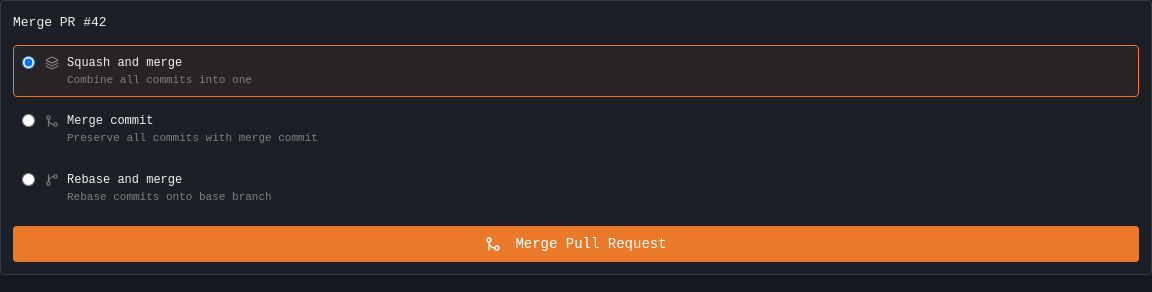
Test: MergeStrategyPicker › shows confirm/cancel buttons after clicking Merge Pull Request
Click the button "Merge Pull Request" at (576, 244), box [13, 226, 1139, 262]
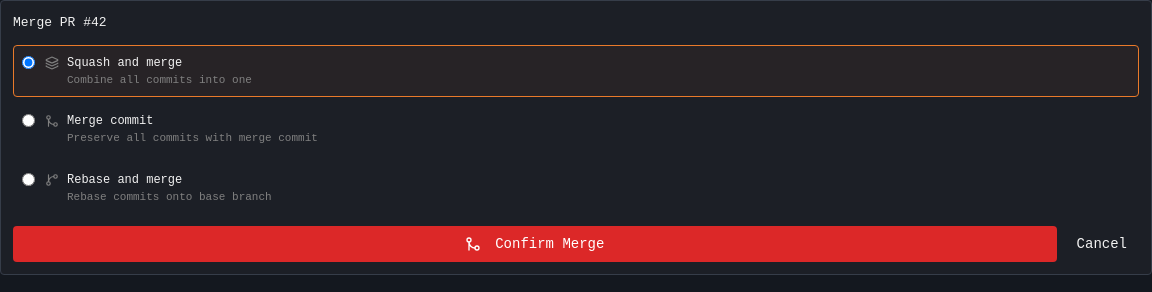
Check: the button "Confirm Merge" is shown, box [13, 226, 1057, 262]
Check: the button "Cancel" is shown, box [1065, 226, 1139, 262]
